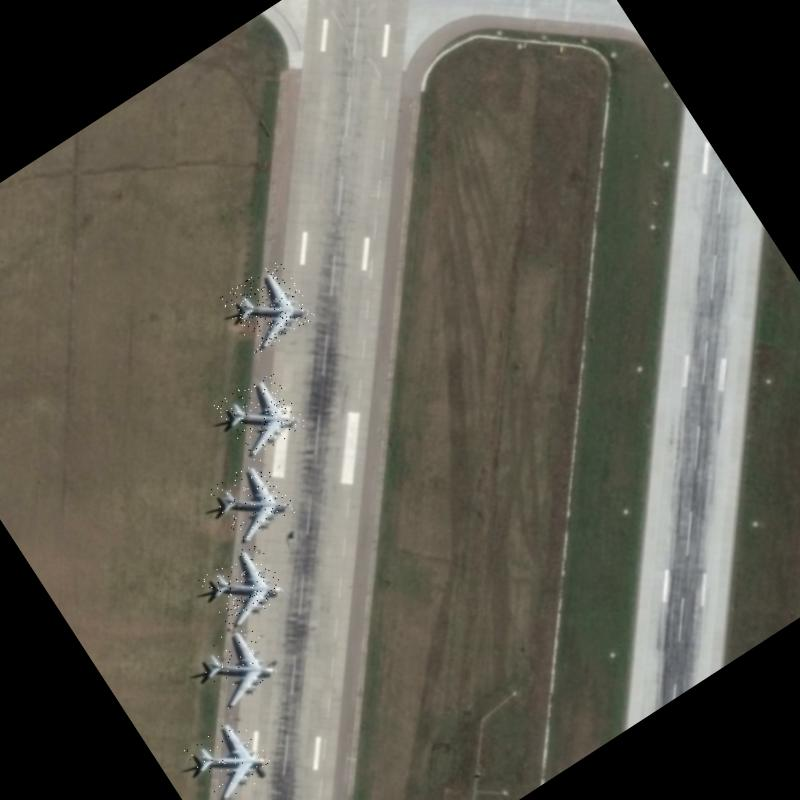A17: (218, 258, 318, 356), (213, 369, 308, 462), (181, 710, 279, 800), (197, 540, 291, 632), (206, 454, 298, 546), (194, 619, 286, 711)
